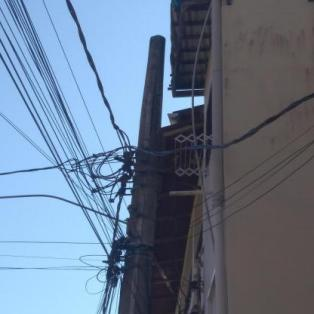Poste: (109, 25, 172, 314)
